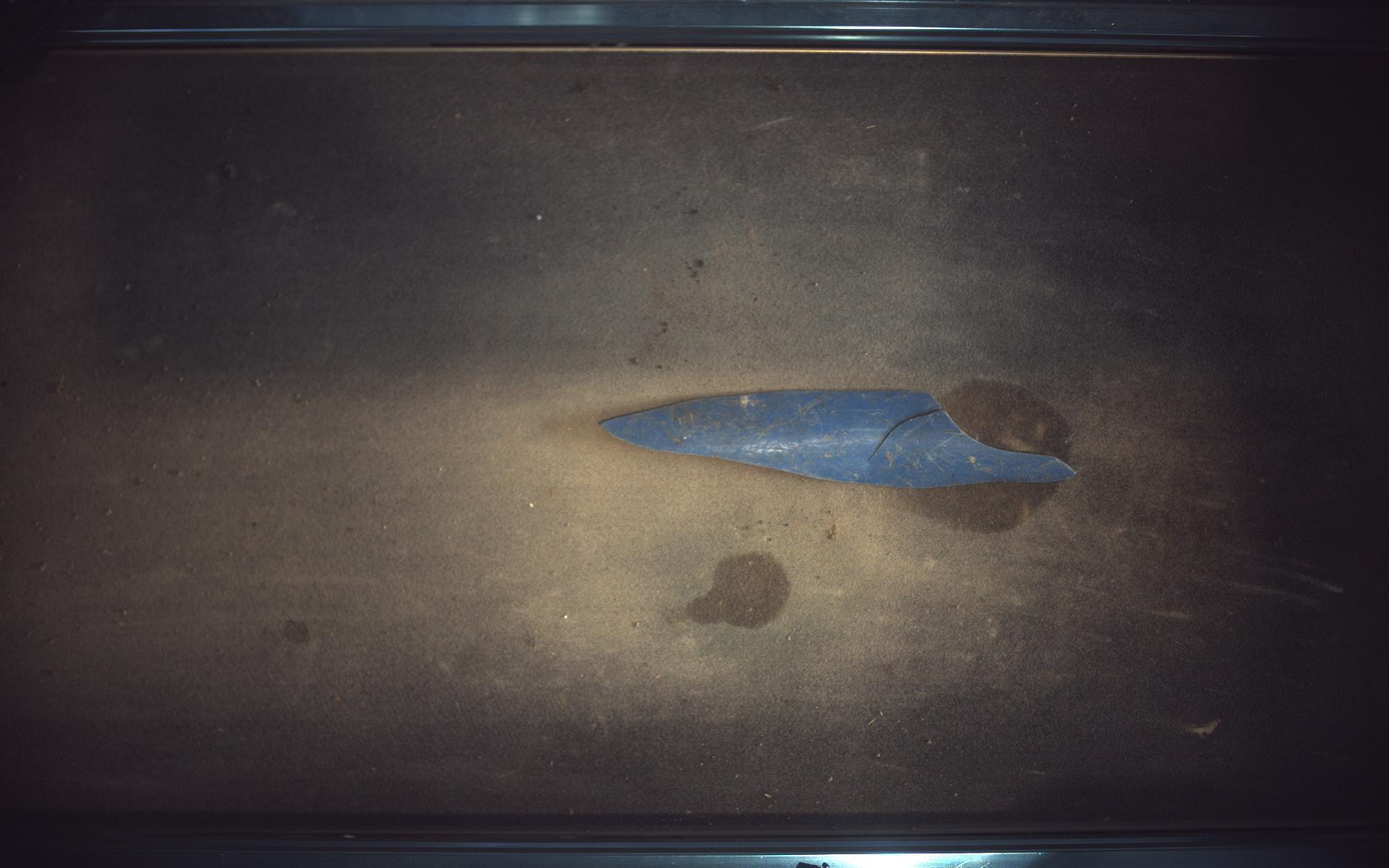plastic: (602, 391, 1076, 489)
